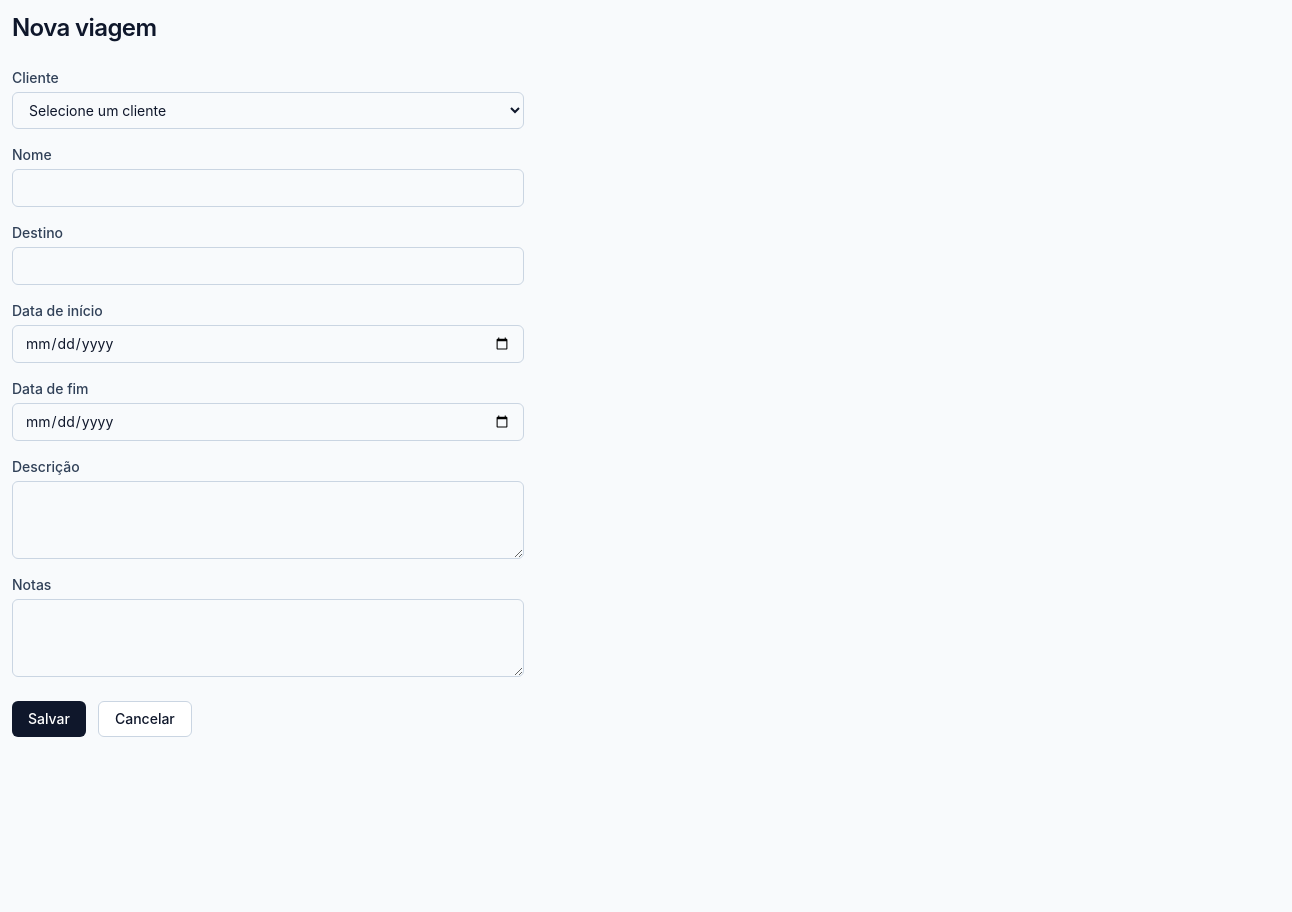
Test case: TripFormPage › missing customer shows validation error and does not submit
Expected: the dropdown labelled "Cliente" is shown, 12,92 -> 524,129
Click the button "Salvar" at (49, 719), box 12,701 -> 86,737
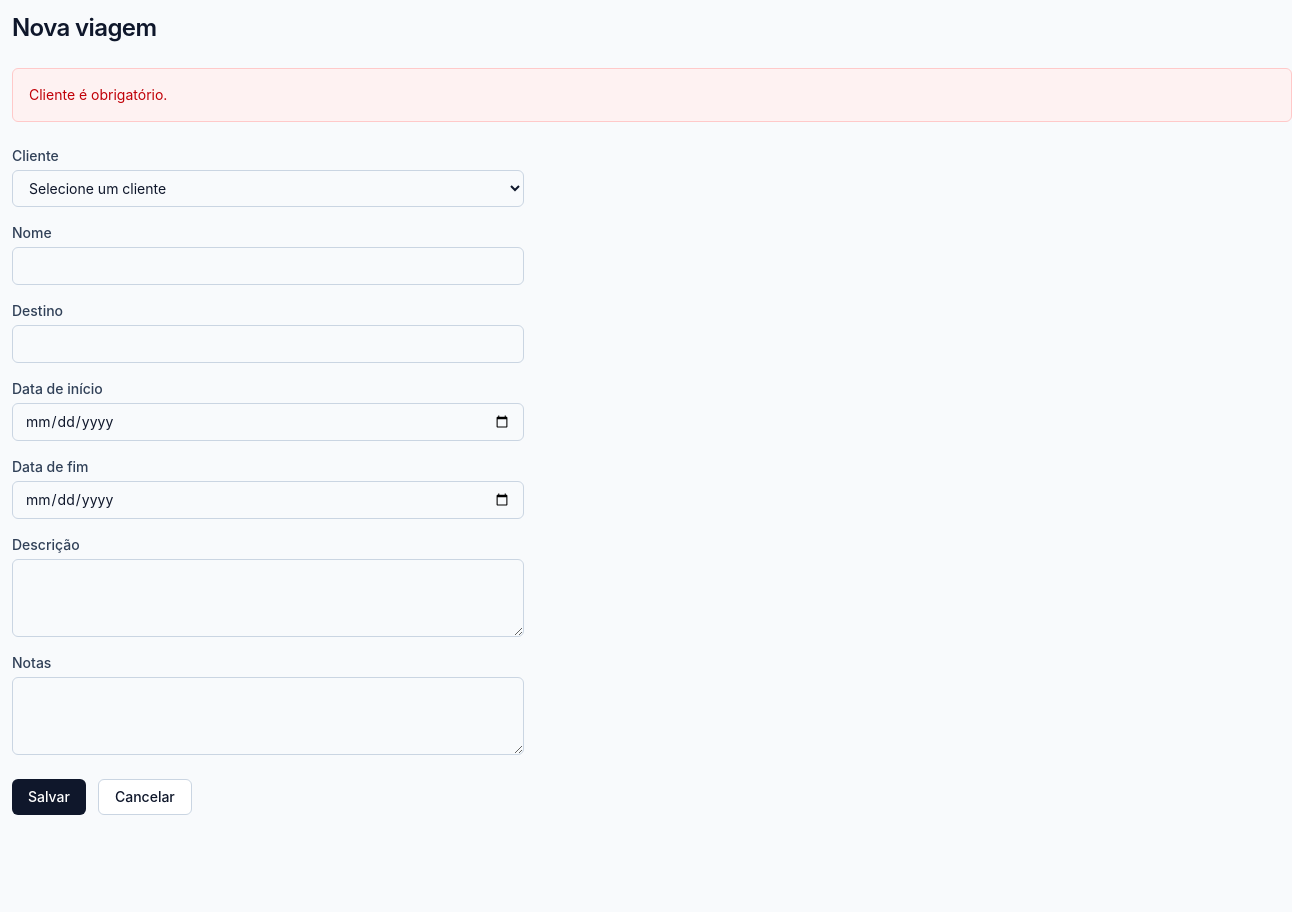
Expected: the text "Cliente é obrigatório." is shown, 12,68 -> 1291,122
